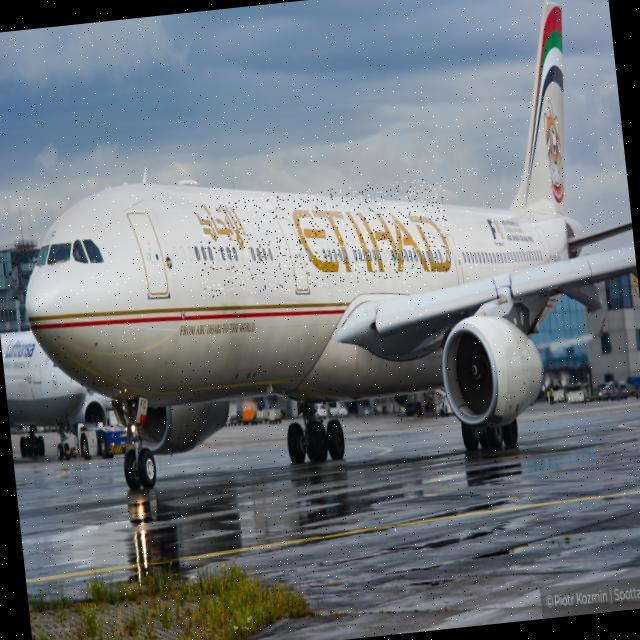Etihad Airways: (194, 177, 453, 298)
